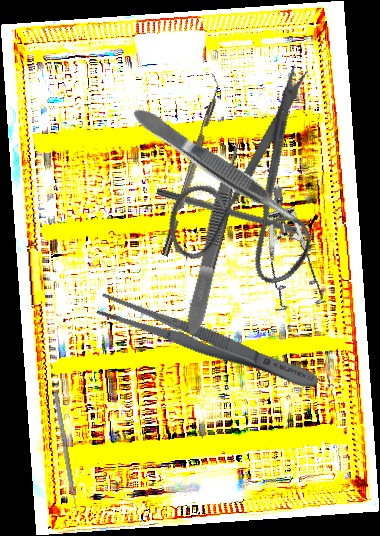Chopper: (153, 73, 226, 257)
Dressing Forceps: (94, 288, 323, 398)
Iris Scissors: (131, 58, 368, 309)
Pusher: (155, 187, 339, 249), (53, 392, 80, 519)
Speculum: (231, 183, 361, 327)
Tissue Forceps: (129, 100, 306, 233), (181, 139, 249, 337)
